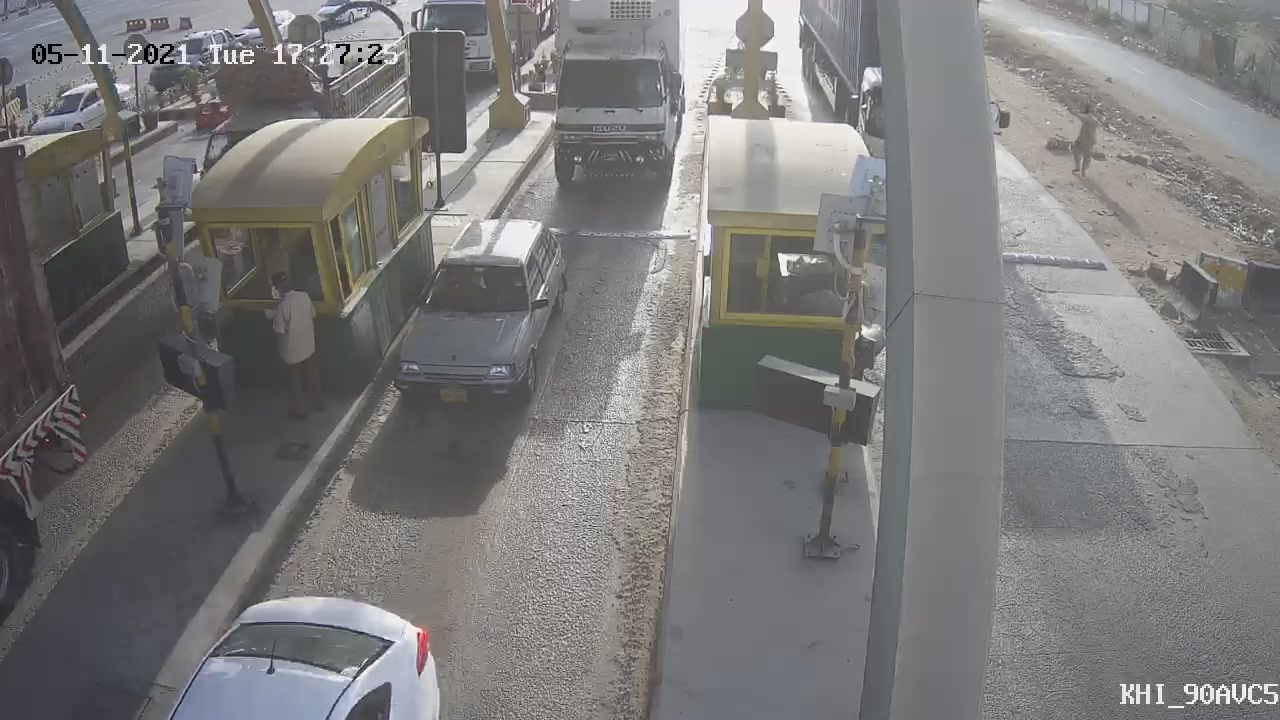F1: (377, 201, 589, 422)
